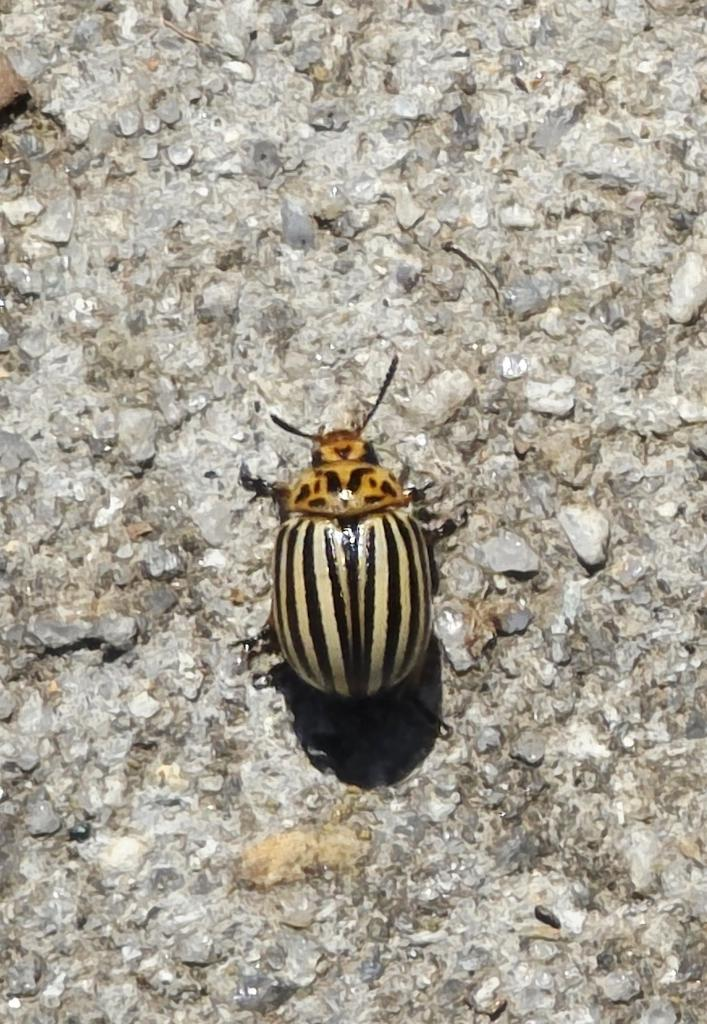potato_beetle: (220, 329, 479, 749)
